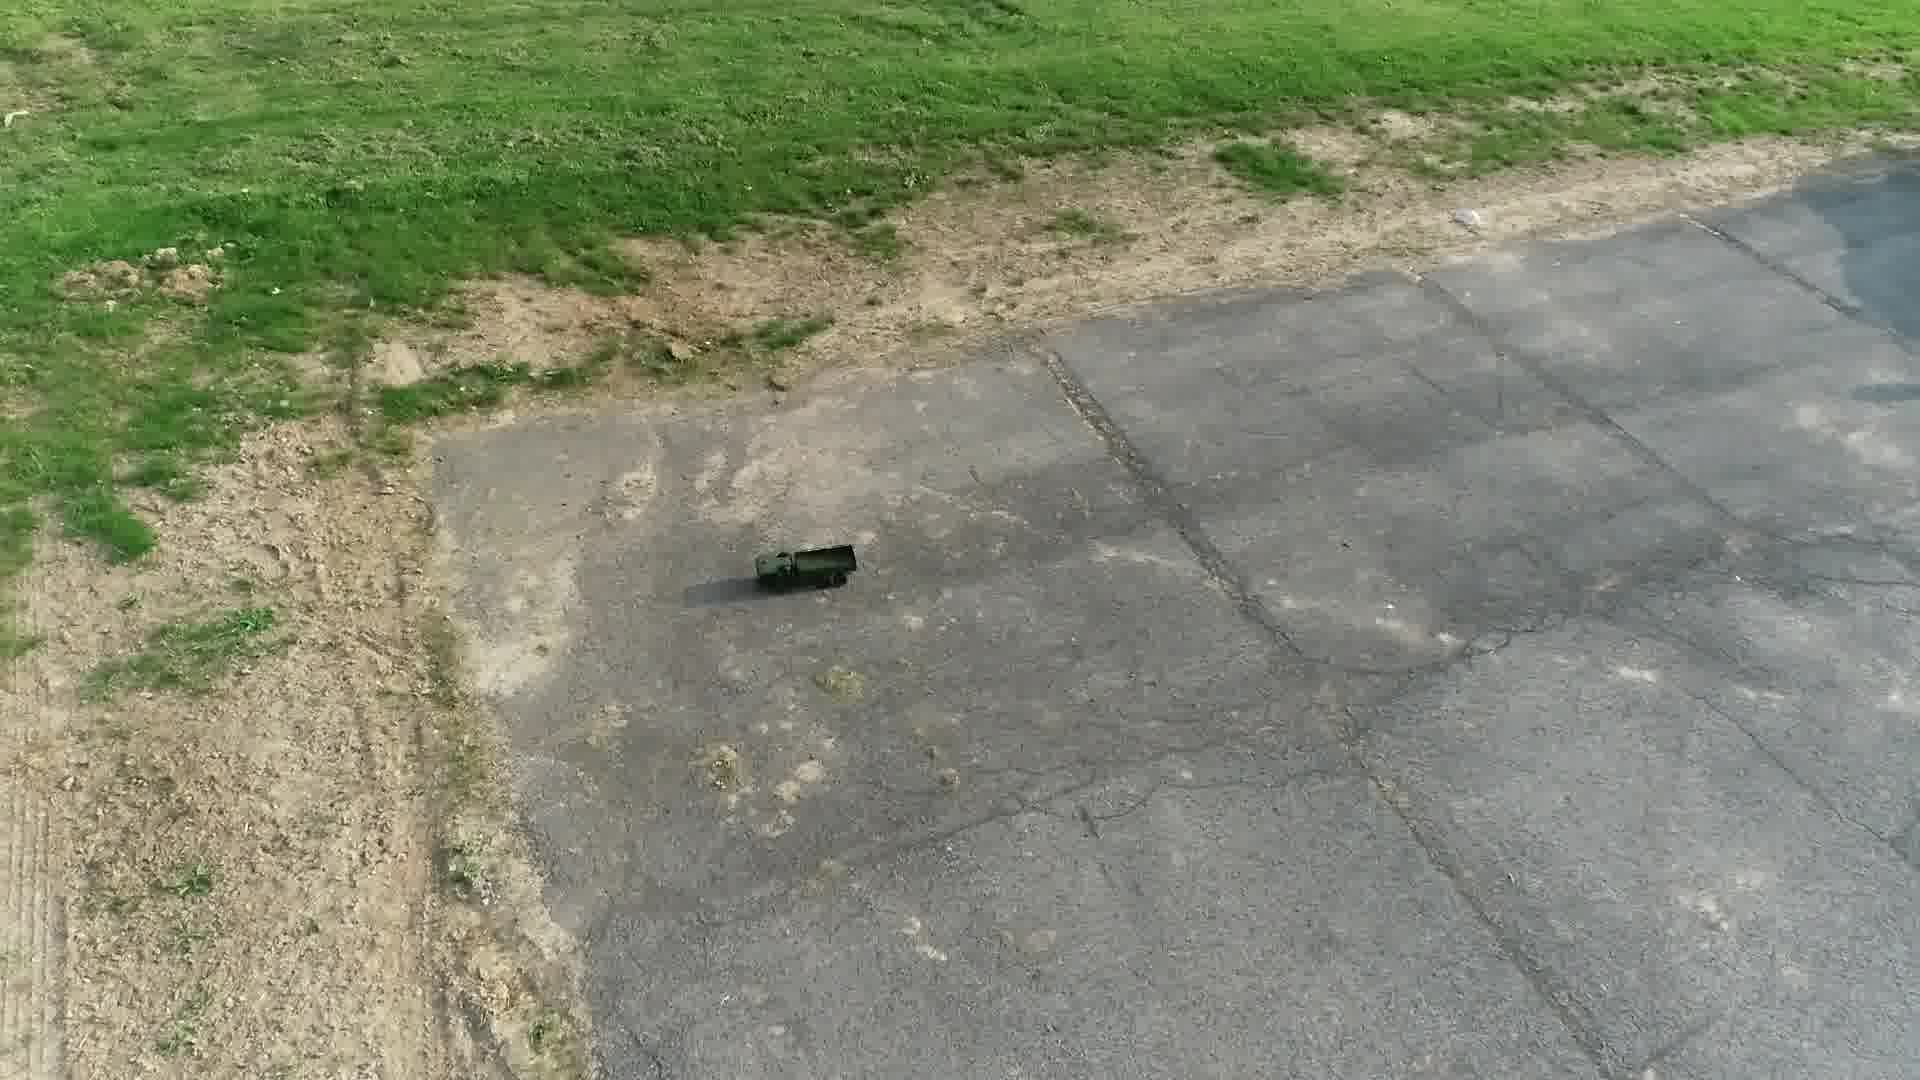transporter9: (748, 533, 862, 593)
